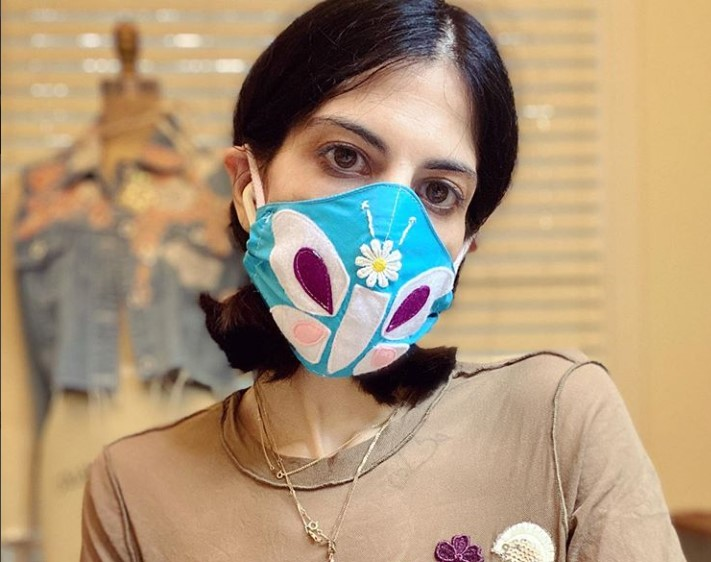face_with_mask: (219, 4, 517, 380)
